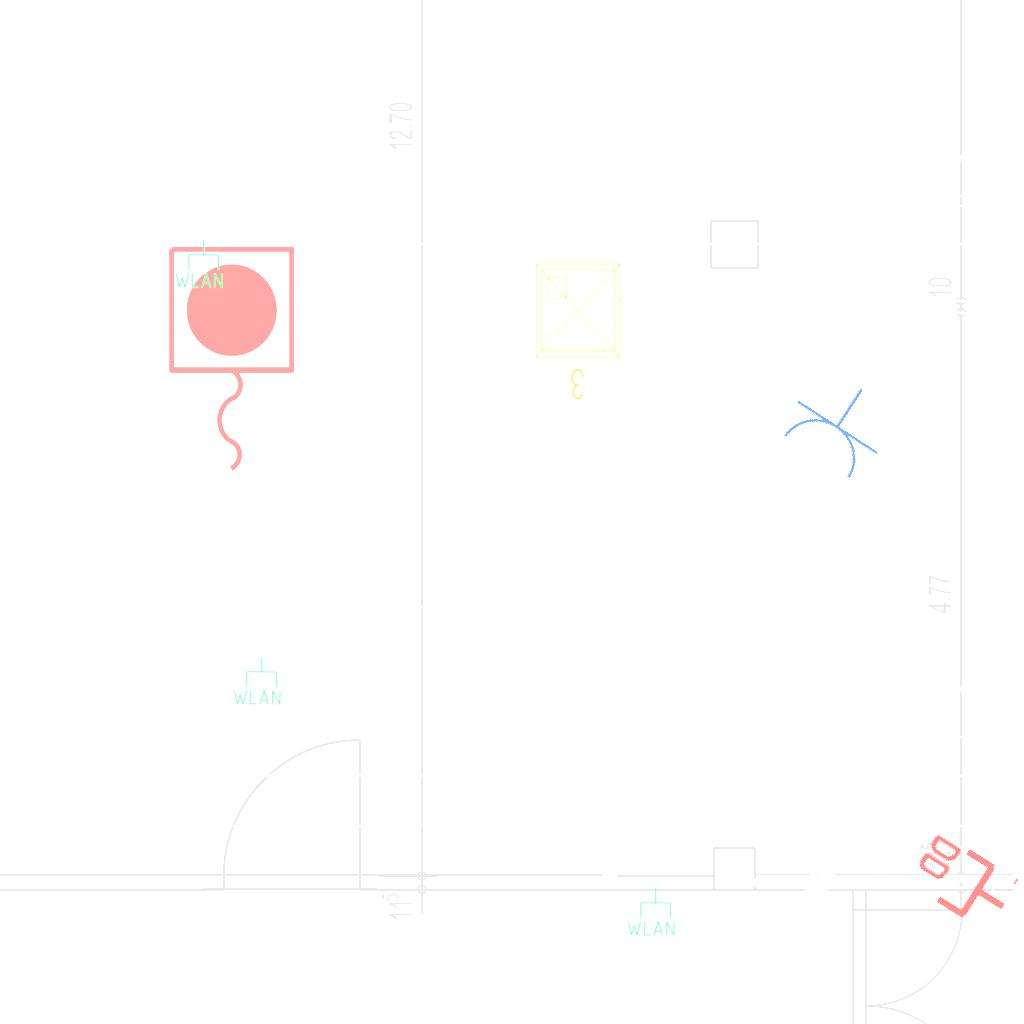Datenanschluss_zweifach: (899, 825, 1024, 940)
Einbaudownlights_LED_Konferenzraeume: (528, 256, 632, 406)
Schukosteckdose_einfach: (772, 360, 904, 489)
WLAN: (625, 886, 677, 938), (231, 655, 283, 707), (173, 238, 225, 290)
Zugtaster: (158, 238, 302, 482)
